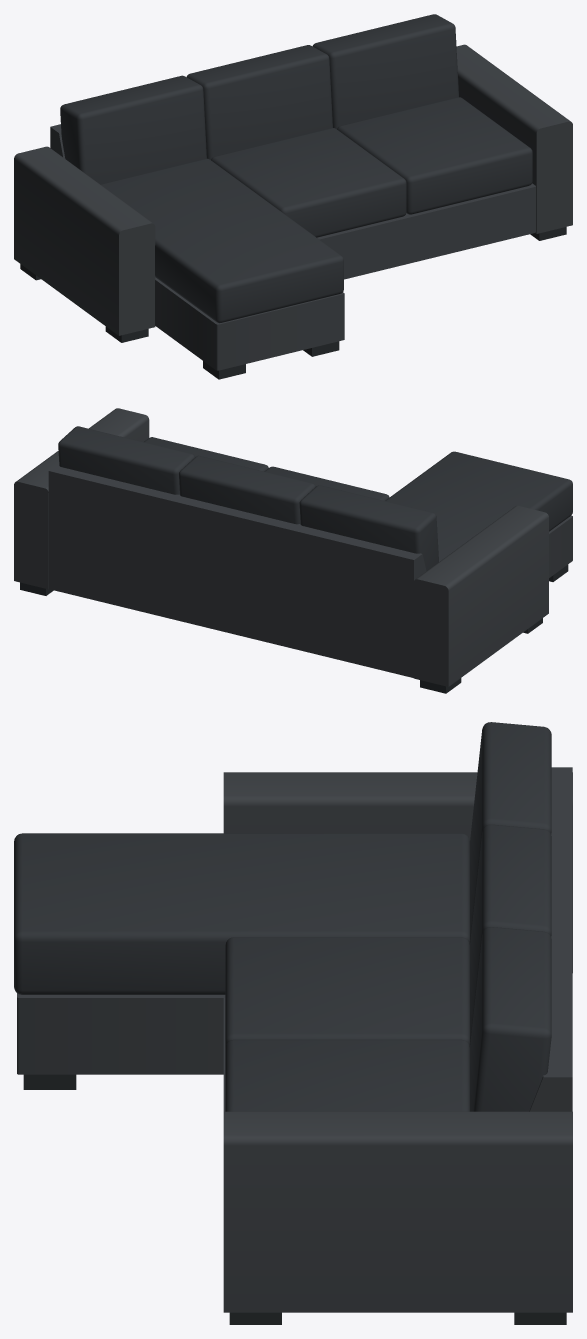
File: Sofa4_C1.fbx
The picture shows the model from 3 angles, top to bottom: view 1: azimuth 30°, elevation 25°; view 2: azimuth 150°, elevation 25°; view 3: azimuth 270°, elevation 25°; orthographic projection. The views are drawn at different scales.
Visible parts, largest first — view 1: Sofa4_C1; view 2: Sofa4_C1; view 3: Sofa4_C1.
Boxes of the visible parts, left/top/right/bottom form: Sofa4_C1: left=14, top=14, right=572, bottom=379; Sofa4_C1: left=14, top=408, right=572, bottom=693; Sofa4_C1: left=14, top=722, right=572, bottom=1324.
Size of the model in its own units: 250 by 85.61 by 160.
